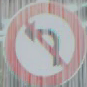Don't turn left: (8, 11, 73, 75)
